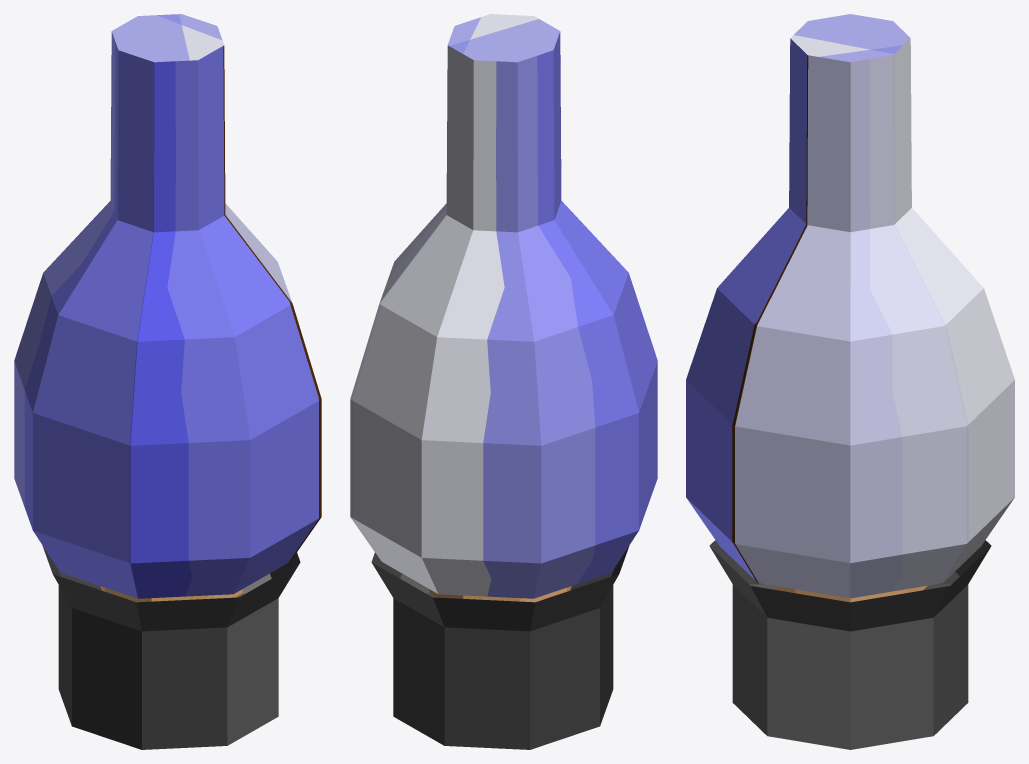
The model's file is candle_338x02.gltf.
3 renders of one model, left to right at view 1: azimuth 30°, elevation 25°; view 2: azimuth 150°, elevation 25°; view 3: azimuth 270°, elevation 25°, orthographic.
Parts seen in each view (by area): view 1: candle_338x02; view 2: candle_338x02; view 3: candle_338x02.
Part boxes in pixels (bbox=[...]): candle_338x02: bbox=[14, 14, 321, 749]; candle_338x02: bbox=[350, 14, 657, 749]; candle_338x02: bbox=[686, 14, 1014, 749].
Size of the model in its own units: 0.3802 by 0.8936 by 0.401.
2 materials, 2 textured.
